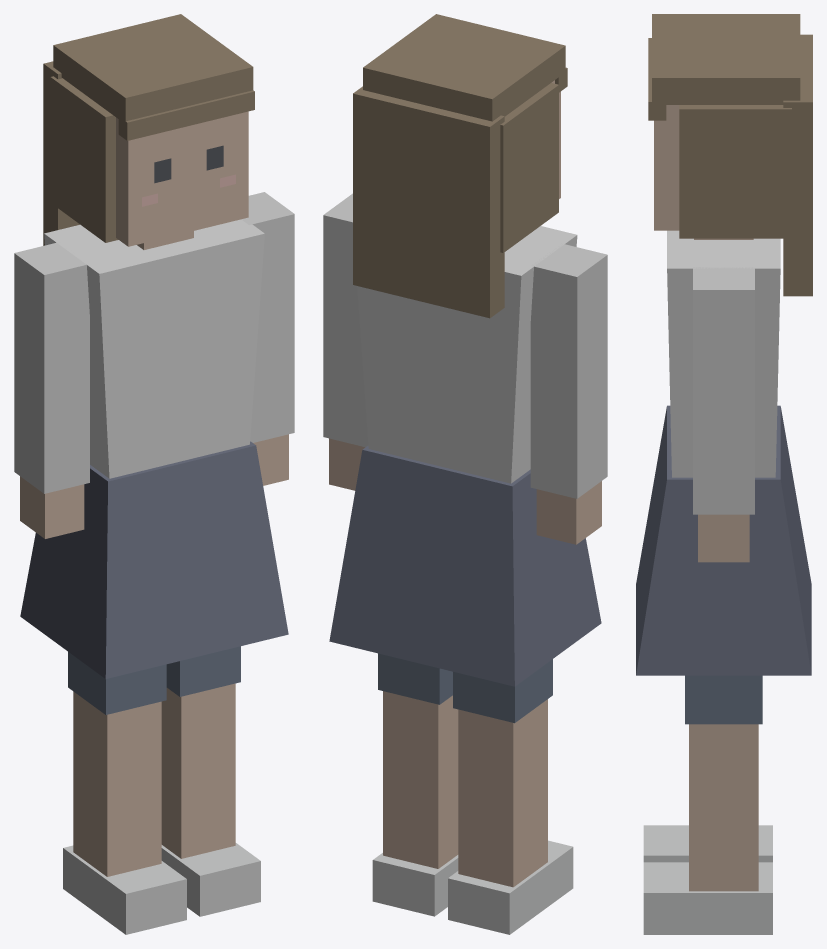
File: walker_8.glb
The picture shows the model from 3 angles, left to right: view 1: azimuth 30°, elevation 25°; view 2: azimuth 150°, elevation 25°; view 3: azimuth 270°, elevation 25°; orthographic projection. The views are drawn at different scales.
Visible parts, largest first — view 1: walker_8; view 2: walker_8; view 3: walker_8.
Part boxes in pixels (x1=…): walker_8: x1=14, y1=14, x2=294, y2=934; walker_8: x1=323, y1=14, x2=607, y2=934; walker_8: x1=636, y1=14, x2=812, y2=934.
Bounding box in the file's own units: 0.529 × 1.68 × 0.3151.
